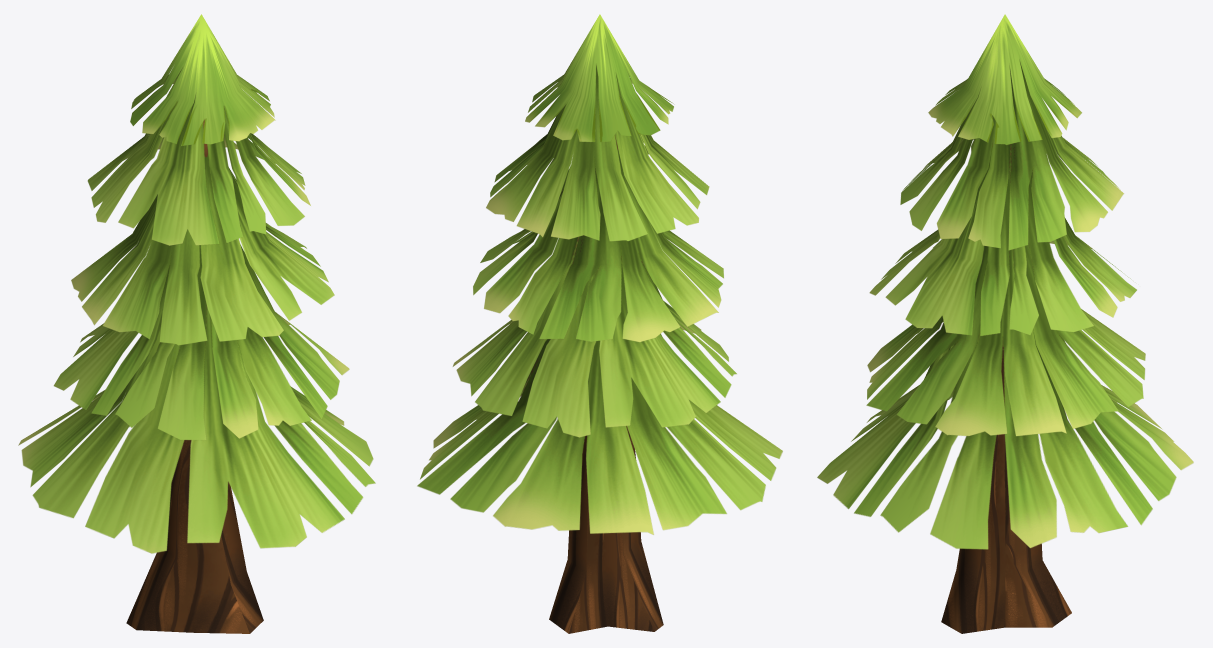
Rendered from pino.gltf.
3 renders of one model, left to right at view 1: azimuth 30°, elevation 25°; view 2: azimuth 150°, elevation 25°; view 3: azimuth 270°, elevation 25°, orthographic.
Visible parts, largest first — view 1: PineTree_001; view 2: PineTree_001; view 3: PineTree_001.
Part boxes in pixels (x1,y1,x2,y2): PineTree_001: (18, 14, 375, 633); PineTree_001: (417, 14, 782, 633); PineTree_001: (817, 14, 1193, 633).
Size of the model in its own units: 336 by 577 by 336.
1 material, 1 textured.
